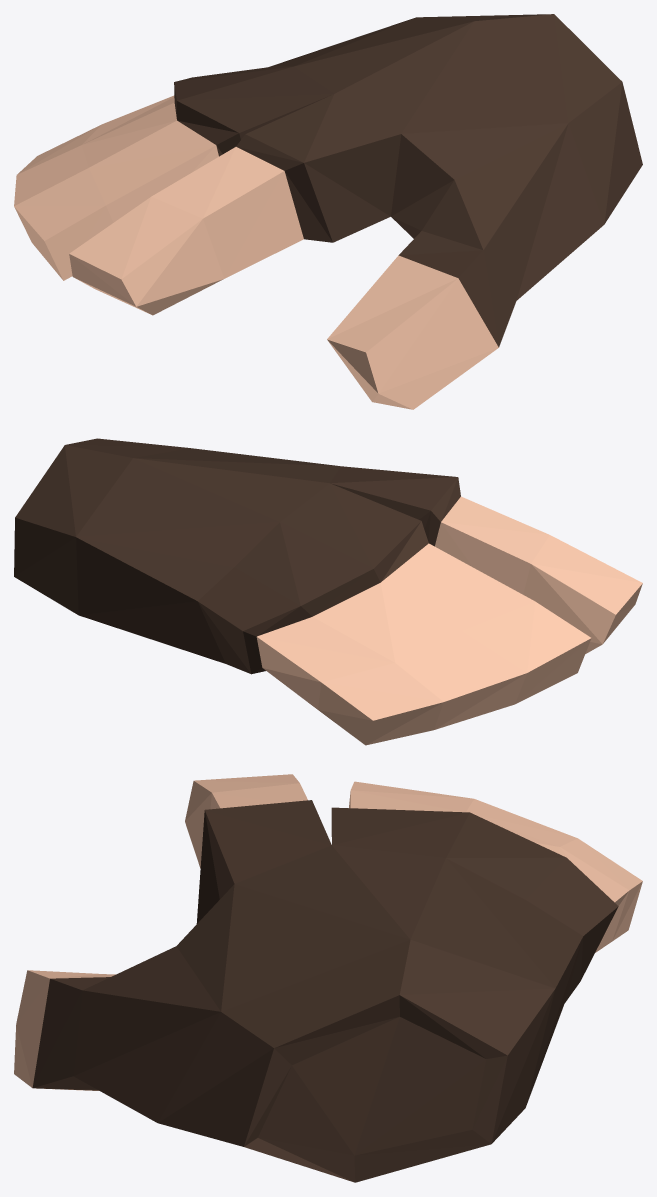
The model's file is Chr_HandRight_Male_17_Static.fbx.
3 views of the same model, one above another, from view 1: azimuth 30°, elevation 25°; view 2: azimuth 150°, elevation 25°; view 3: azimuth 270°, elevation 25° (orthographic). The views are drawn at different scales.
Visible parts, largest first — view 1: Chr_HandRight_Male_17_Static; view 2: Chr_HandRight_Male_17_Static; view 3: Chr_HandRight_Male_17_Static.
Part boxes in pixels (x1,y1,x2,y2): Chr_HandRight_Male_17_Static: [14, 14, 642, 409]; Chr_HandRight_Male_17_Static: [14, 438, 642, 745]; Chr_HandRight_Male_17_Static: [14, 774, 642, 1182].
Size of the model in its own units: 0.2361 by 0.0952 by 0.188.
